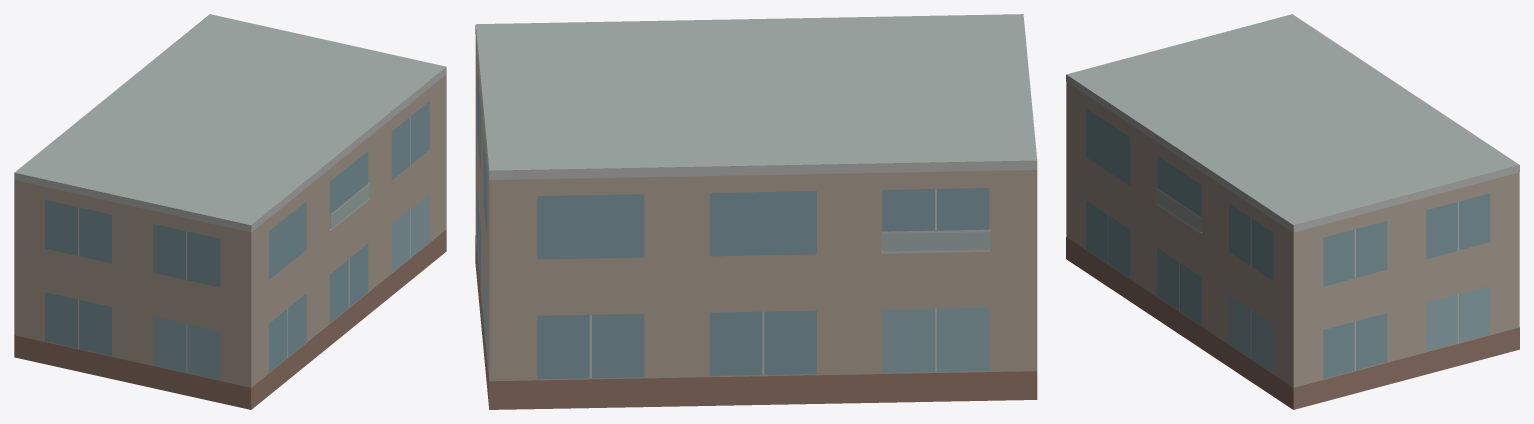
Rendered from survey-upis-32712930.glb.
3 renders of one model, left to right at view 1: azimuth 30°, elevation 25°; view 2: azimuth 150°, elevation 25°; view 3: azimuth 270°, elevation 25°, orthographic. The views are drawn at different scales.
Visible parts, largest first — view 1: survey-upis-32712930.tmp; view 2: survey-upis-32712930.tmp; view 3: survey-upis-32712930.tmp.
Part boxes in pixels (box(x1,y1,x2,y2)): survey-upis-32712930.tmp: box(14, 14, 446, 409); survey-upis-32712930.tmp: box(475, 14, 1037, 409); survey-upis-32712930.tmp: box(1066, 14, 1519, 409).
Bounding box in the file's own units: 14.97 × 6.1 × 13.59.
